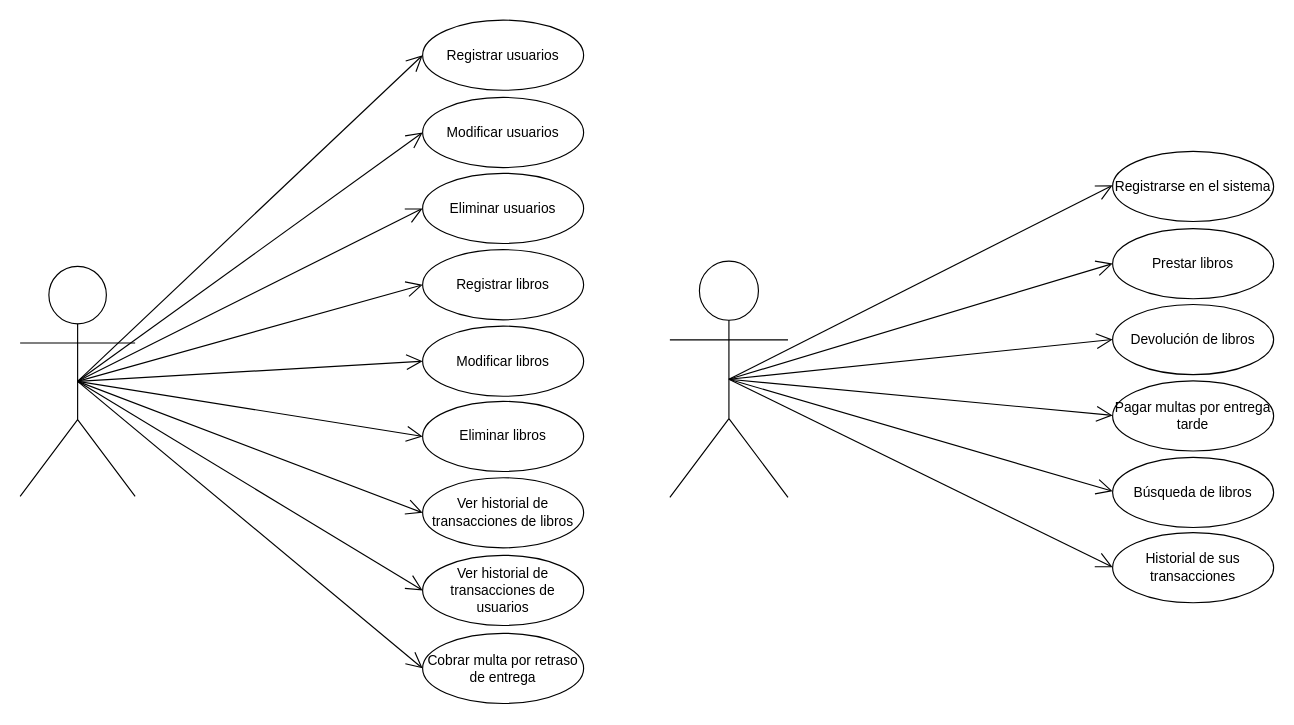
Some shapes in this 1294 by 725 pixel diagram are drawn without their labels. The centre of each missing label's shape, as x and y in pixels:
Administrador: (77,380)
Usuario: (728,378)
